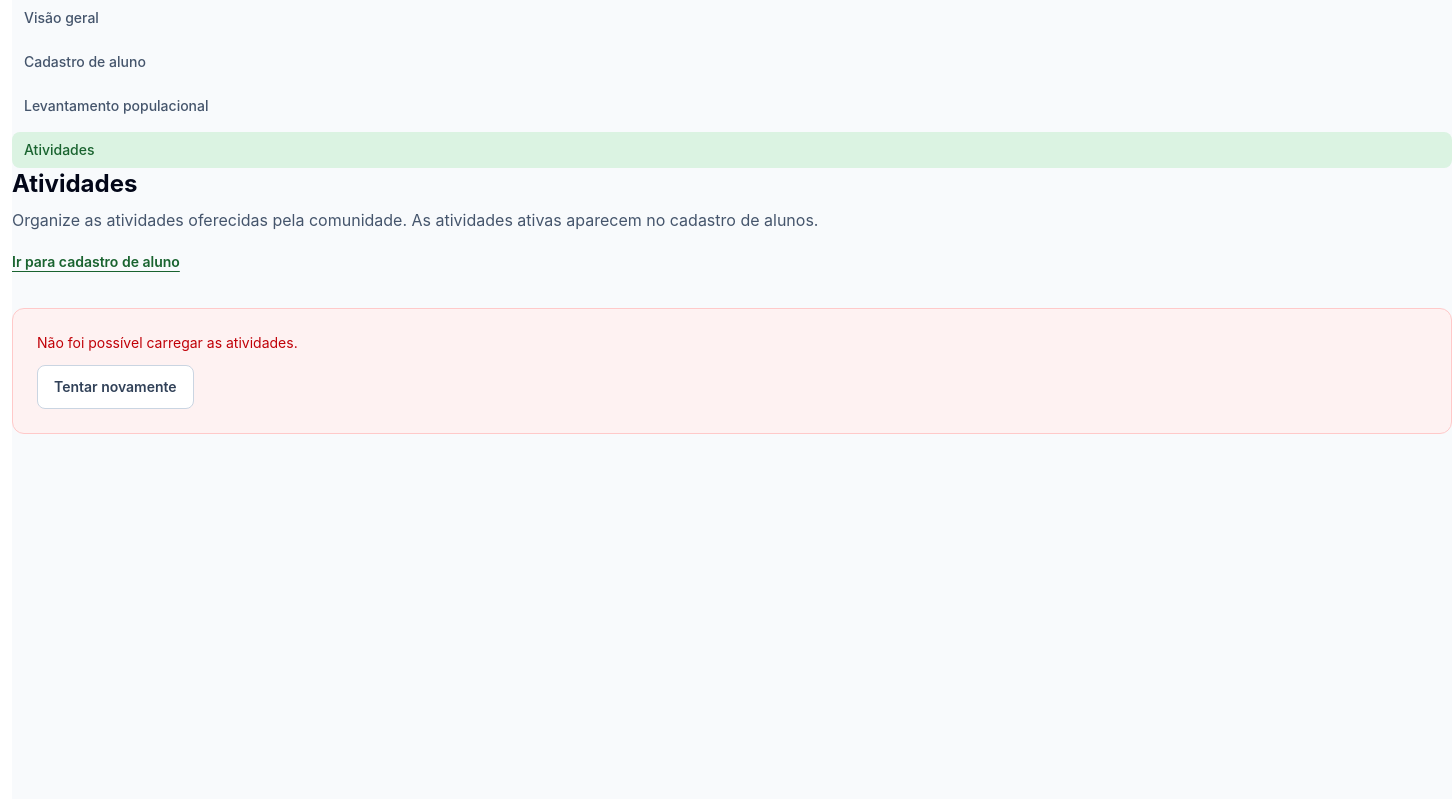
Test: mostra erro de carregamento e tenta novamente
Expected: the text "Não foi possível carregar as atividades." is shown, [37,334,298,351]
Click the button "Tentar novamente". click: (115, 387)
box: [37,365,194,409]
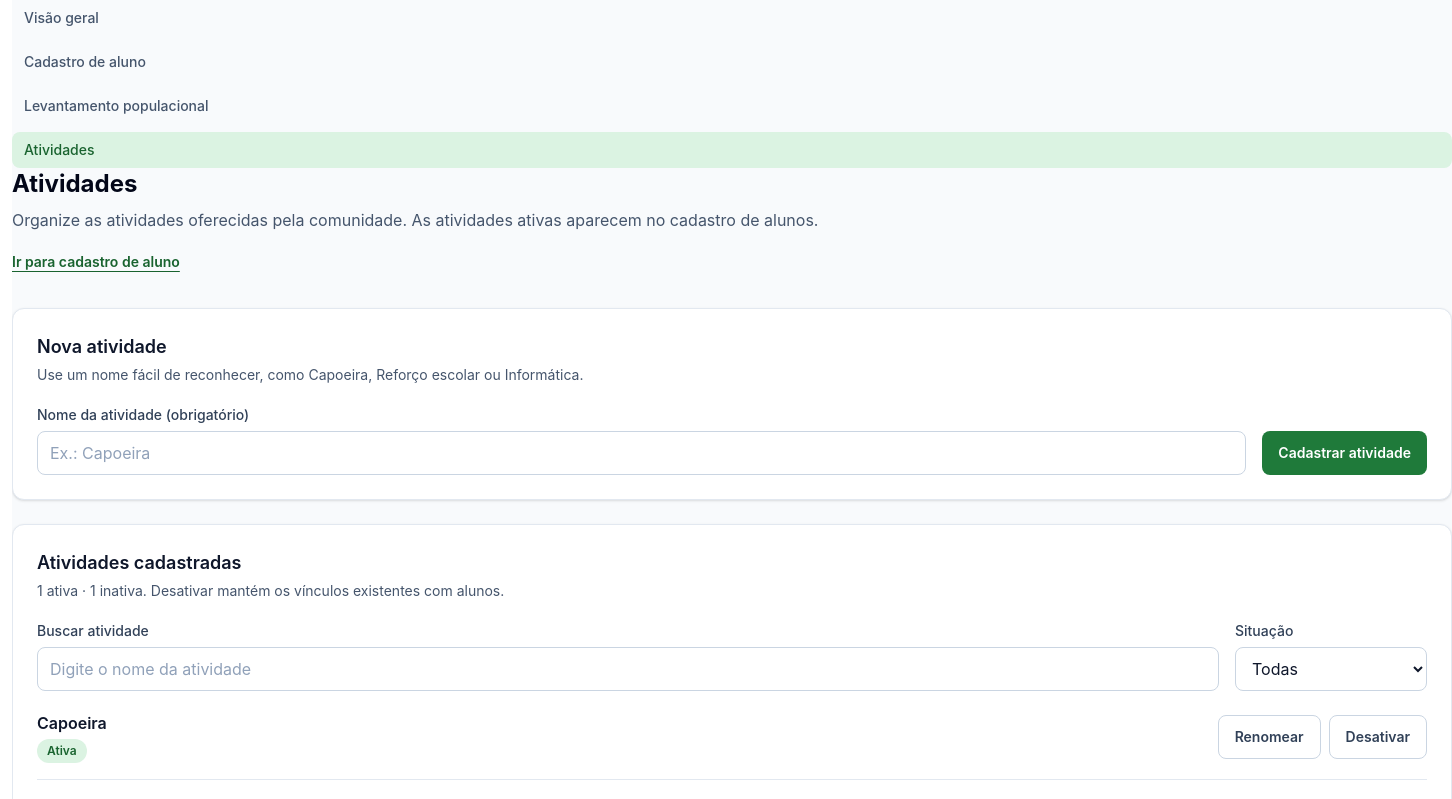
Expected: the text "Capoeira" is shown, [37,711,107,735]
